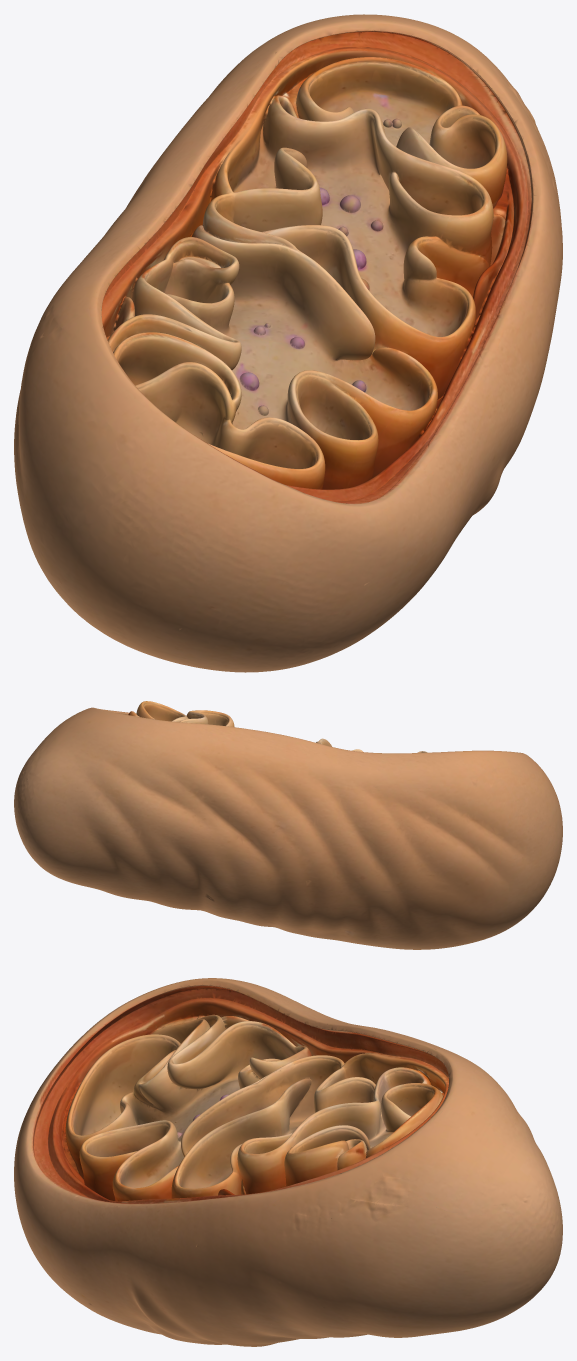
File: mitochondrion.glb
3 views of the same model, one above another, from view 1: azimuth 30°, elevation 25°; view 2: azimuth 150°, elevation 25°; view 3: azimuth 270°, elevation 25° (orthographic). The views are drawn at different scales.
Parts seen in each view (by area): view 1: node_0; view 2: node_0; view 3: node_0.
Part boxes in pixels (<box>): node_0: <box>14,14,562,672</box>; node_0: <box>14,701,562,949</box>; node_0: <box>14,978,562,1346</box>.
Size of the model in its own units: 0.9488 by 0.5885 by 0.8783.
Materials: 1 (1 with a texture image).
